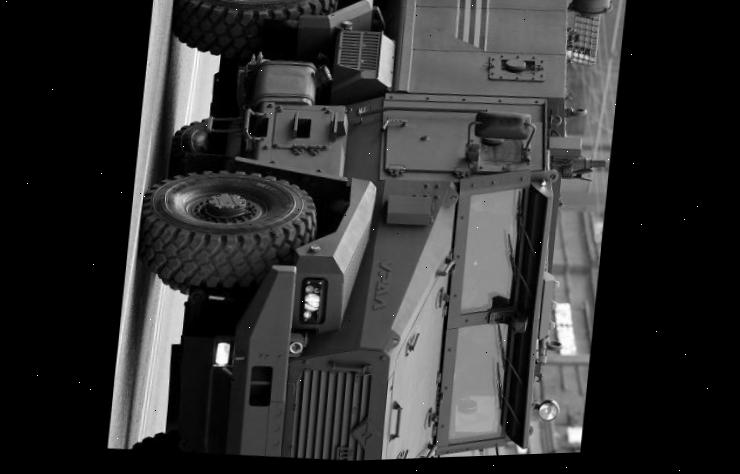truck: (106, 0, 612, 470)
